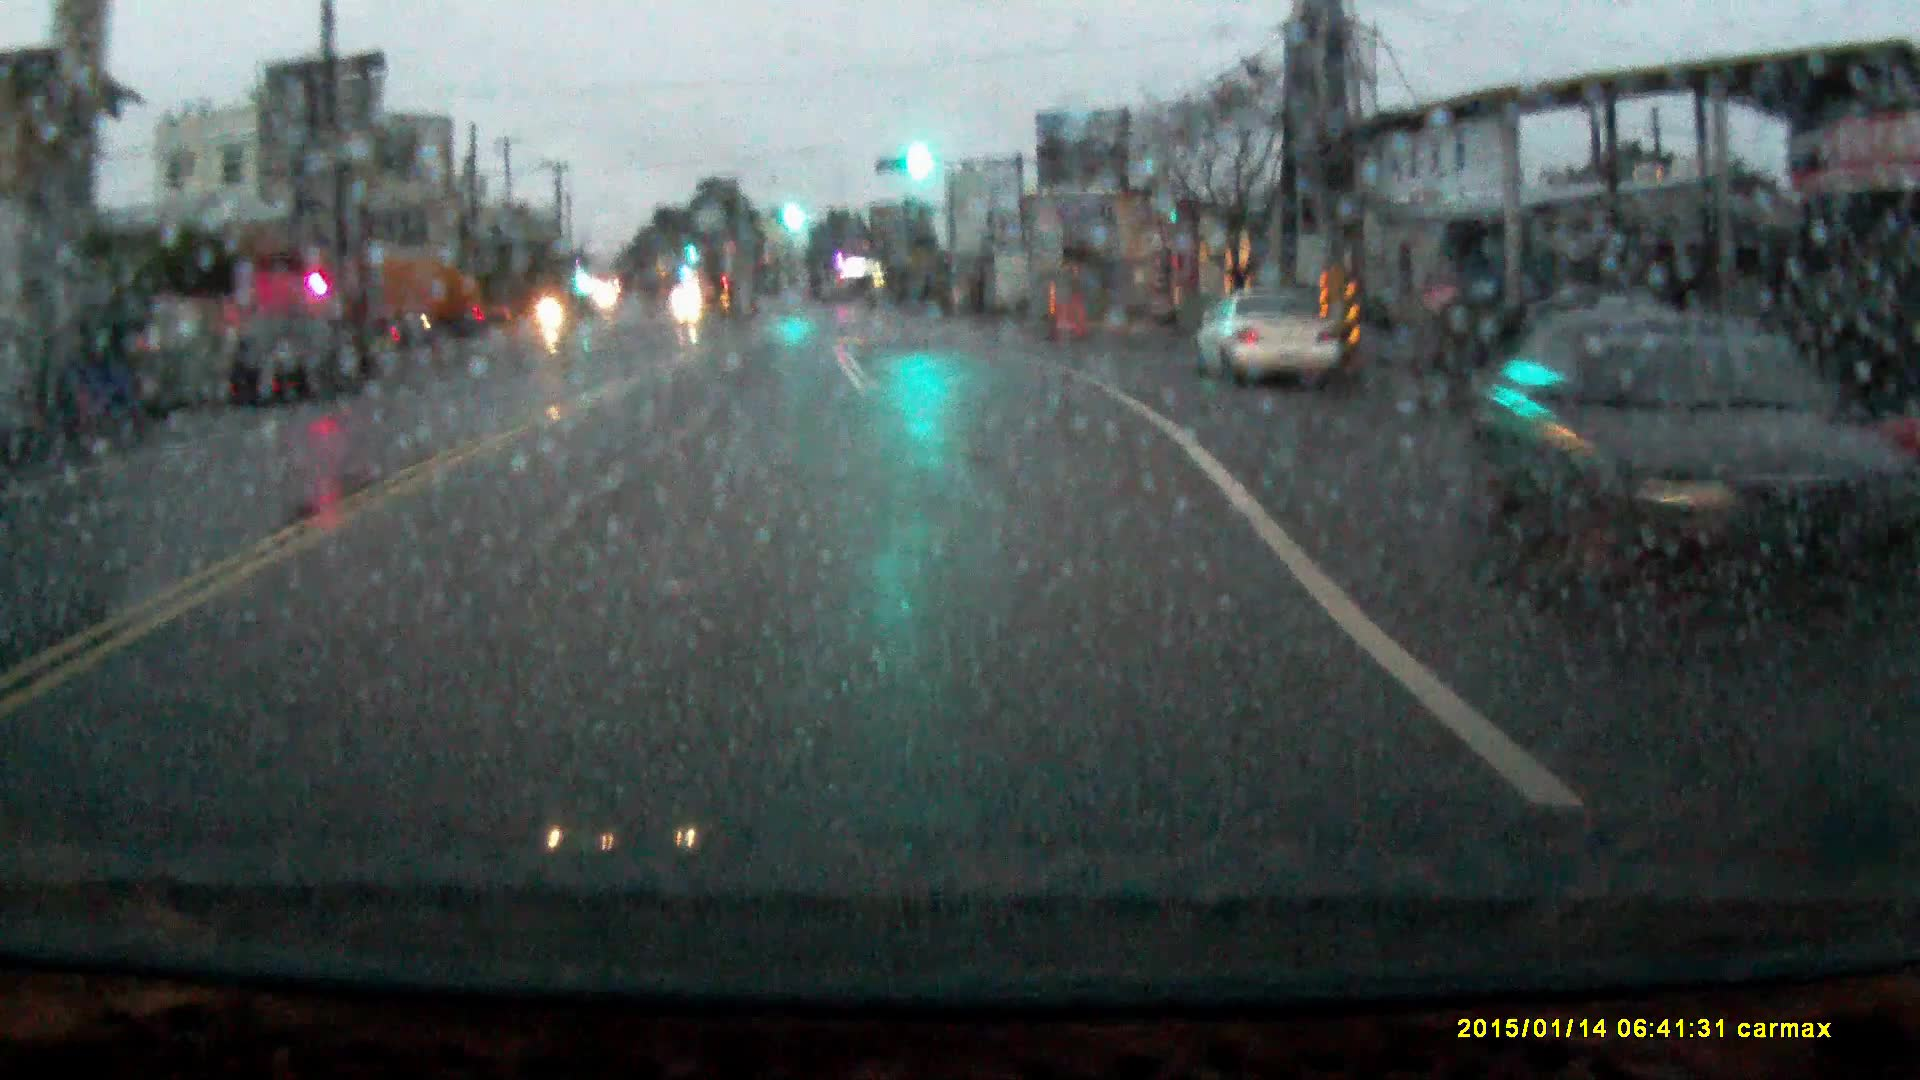rider: (535, 278, 569, 337)
vehicle: (1466, 311, 1856, 577), (1193, 288, 1335, 389), (359, 252, 509, 340), (212, 322, 362, 407), (674, 292, 702, 315)
